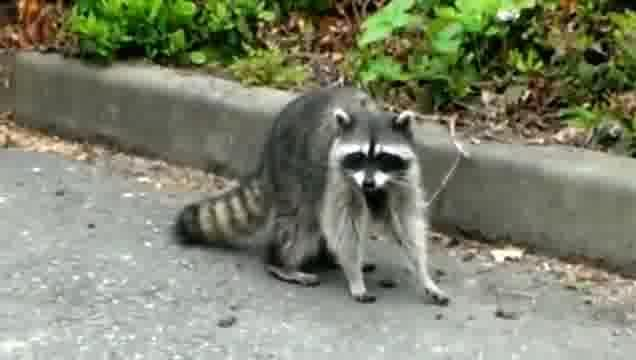raccoon: (176, 85, 451, 308)
